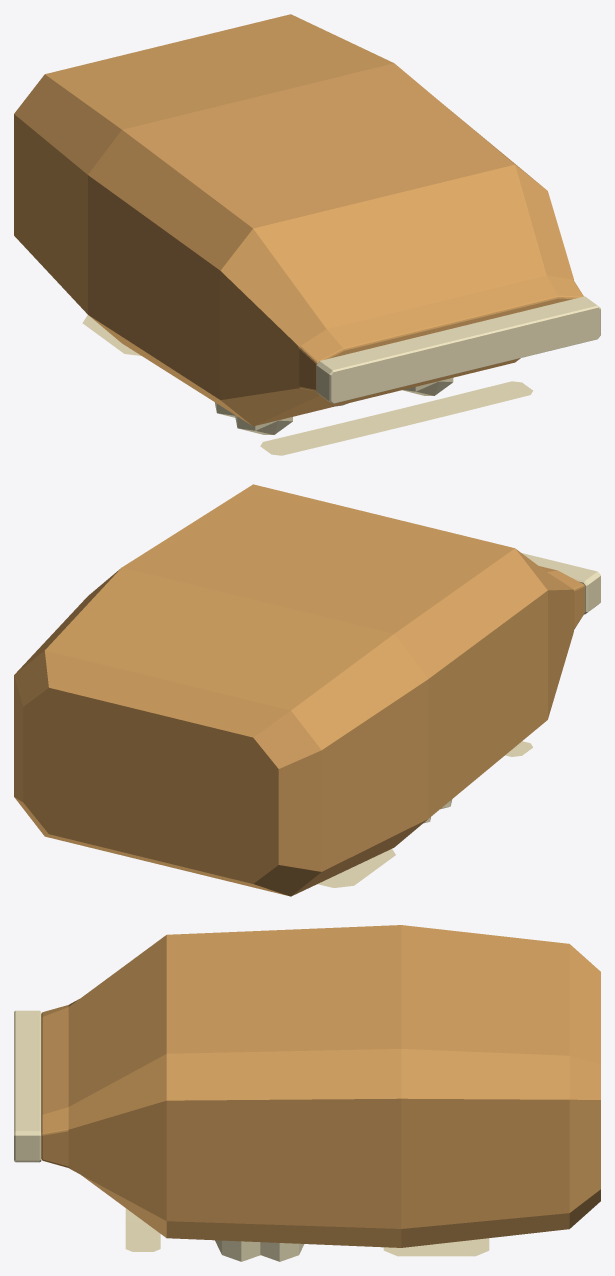
The model's file is pet_treats.glb.
3 views of the same model, one above another, from view 1: azimuth 30°, elevation 25°; view 2: azimuth 150°, elevation 25°; view 3: azimuth 270°, elevation 25° (orthographic). The views are drawn at different scales.
Visible parts, largest first — view 1: pet_treats; view 2: pet_treats; view 3: pet_treats.
Boxes of the visible parts, x1=… form: pet_treats: x1=14, y1=14, x2=600, y2=455; pet_treats: x1=14, y1=484, x2=600, y2=896; pet_treats: x1=14, y1=925, x2=600, y2=1261.
Bounding box in the file's own units: 0.0936 × 0.0673 × 0.15.
